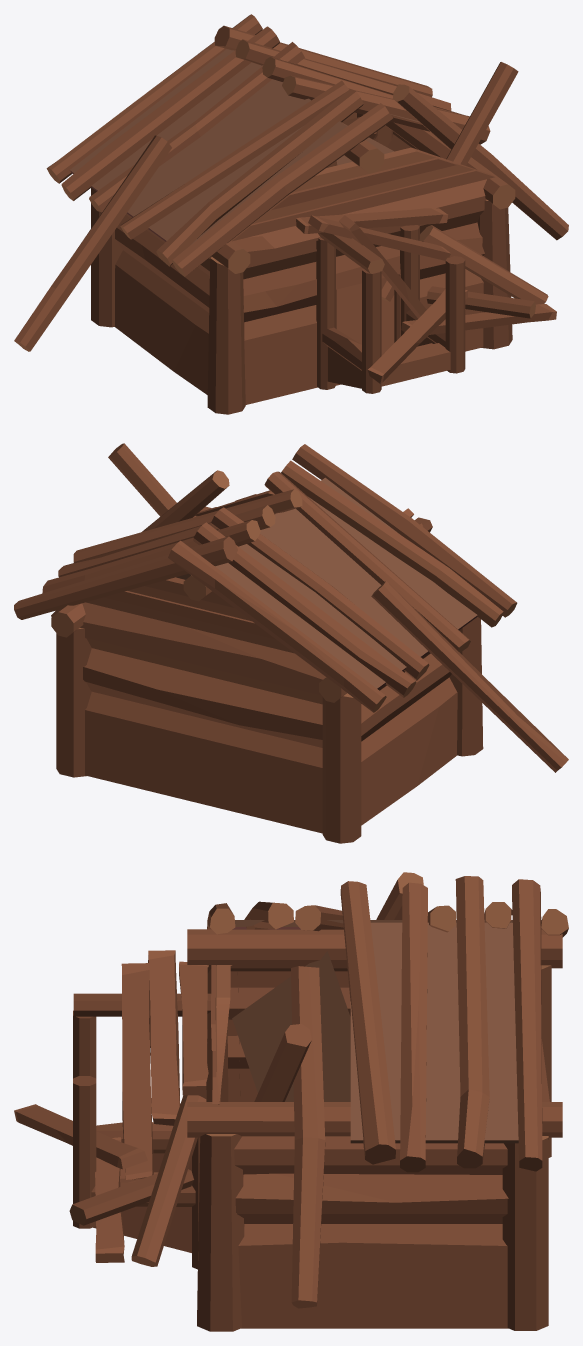
File: log_dugout_broken.fbx
3 views of the same model, one above another, from view 1: azimuth 30°, elevation 25°; view 2: azimuth 150°, elevation 25°; view 3: azimuth 270°, elevation 25° (orthographic). The views are drawn at different scales.
Visible parts, largest first — view 1: log_dugout_broken; view 2: log_dugout_broken; view 3: log_dugout_broken.
Boxes of the visible parts, x1=… form: log_dugout_broken: x1=14, y1=14, x2=568, y2=414; log_dugout_broken: x1=14, y1=443, x2=568, y2=843; log_dugout_broken: x1=14, y1=872, x2=568, y2=1331.
Bounding box in the file's own units: 402 × 194 × 279.
